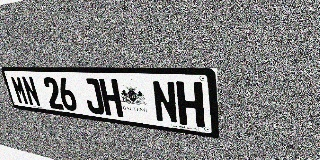2: (42, 77, 64, 110)
6: (56, 77, 78, 112)
H: (176, 81, 205, 128), (99, 79, 123, 117)
J: (81, 78, 105, 115)
M: (10, 76, 30, 105)
N: (151, 80, 179, 124), (21, 76, 41, 107)
